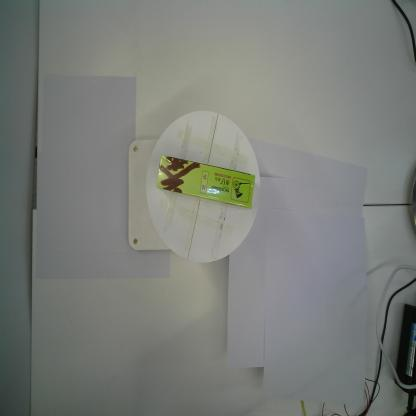Instant Drink: (156, 154, 256, 211)
